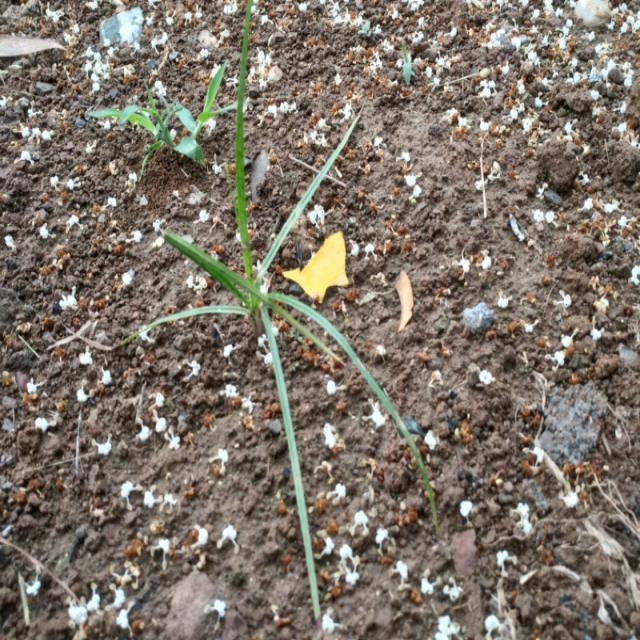sedge: (163, 91, 454, 560)
